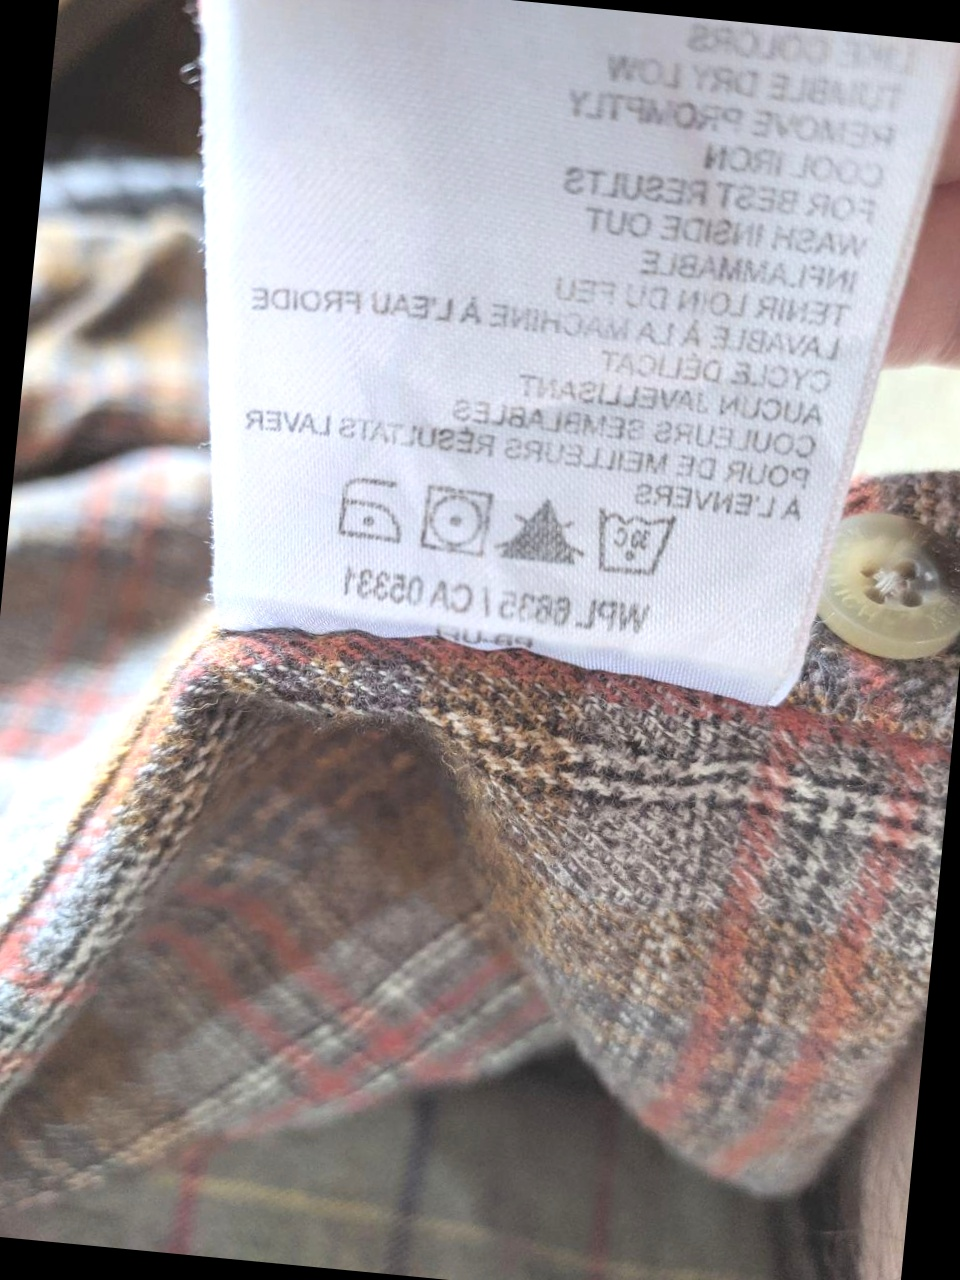30C: (582, 501, 678, 578)
DN_bleach: (501, 500, 584, 569)
iron_low: (336, 471, 411, 545)
tumble_dry_low: (415, 479, 496, 565)
